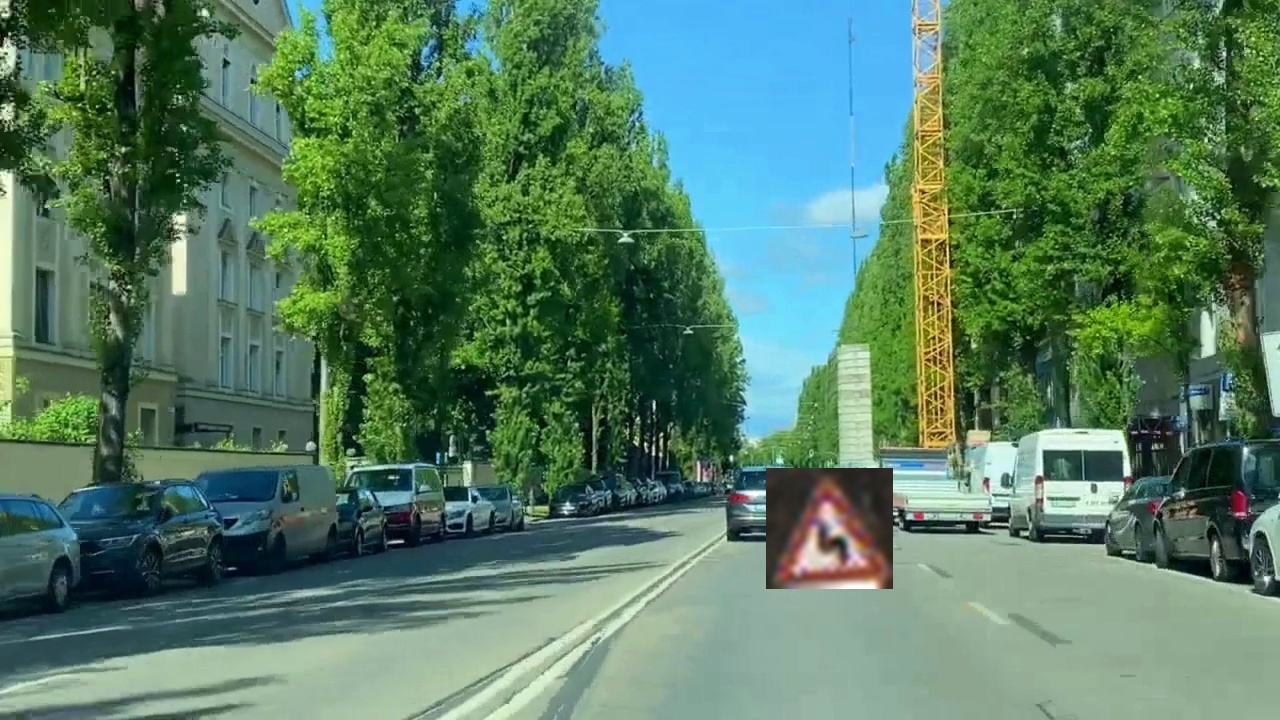Double curve: (766, 468, 893, 589)
